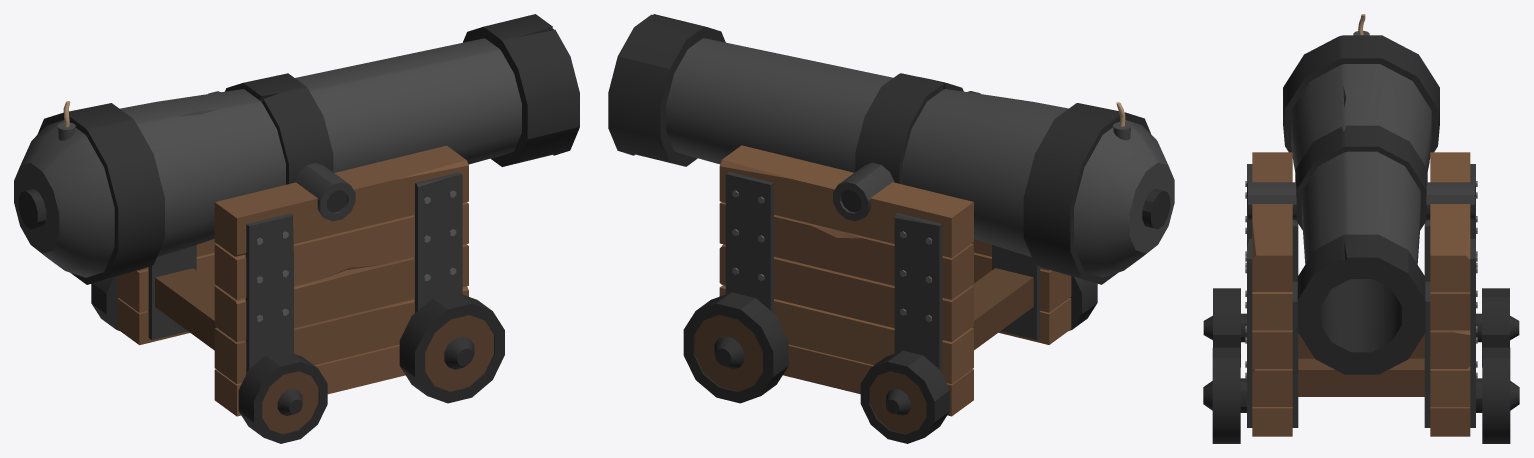
File: Cannon.fbx
3 renders of one model, left to right at view 1: azimuth 30°, elevation 25°; view 2: azimuth 150°, elevation 25°; view 3: azimuth 270°, elevation 25°, orthographic. The views are drawn at different scales.
Visible parts, largest first — view 1: Cannon_01_2_LOD0, Cannon_01_1_LOD0, Cannon_01_Wheel4_LOD0, Cannon_01_Wheel2_LOD0, Cannon_01_Wheel1_LOD0; view 2: Cannon_01_2_LOD0, Cannon_01_1_LOD0, Cannon_01_Wheel3_LOD0, Cannon_01_Wheel1_LOD0, Cannon_01_Wheel2_LOD0; view 3: Cannon_01_2_LOD0, Cannon_01_1_LOD0, Cannon_01_Wheel3_LOD0, Cannon_01_Wheel4_LOD0, Cannon_01_Wheel1_LOD0, Cannon_01_Wheel2_LOD0.
Part boxes in pixels (box(x1,y1,x2,y2)): Cannon_01_2_LOD0: box(14, 14, 579, 284); Cannon_01_1_LOD0: box(117, 145, 468, 416); Cannon_01_Wheel4_LOD0: box(399, 292, 504, 403); Cannon_01_Wheel2_LOD0: box(238, 350, 327, 443); Cannon_01_Wheel1_LOD0: box(91, 276, 119, 330); Cannon_01_2_LOD0: box(608, 14, 1174, 284); Cannon_01_1_LOD0: box(719, 145, 1071, 416); Cannon_01_Wheel3_LOD0: box(683, 292, 788, 403); Cannon_01_Wheel1_LOD0: box(860, 350, 949, 443); Cannon_01_Wheel2_LOD0: box(1069, 276, 1097, 330); Cannon_01_2_LOD0: box(1248, 14, 1474, 374); Cannon_01_1_LOD0: box(1245, 152, 1477, 436); Cannon_01_Wheel3_LOD0: box(1476, 347, 1519, 443); Cannon_01_Wheel4_LOD0: box(1203, 347, 1246, 443); Cannon_01_Wheel1_LOD0: box(1476, 288, 1519, 367); Cannon_01_Wheel2_LOD0: box(1203, 288, 1246, 367).
Size of what is drawn, in the model's own units: 1.36 by 0.7873 by 0.7885.
